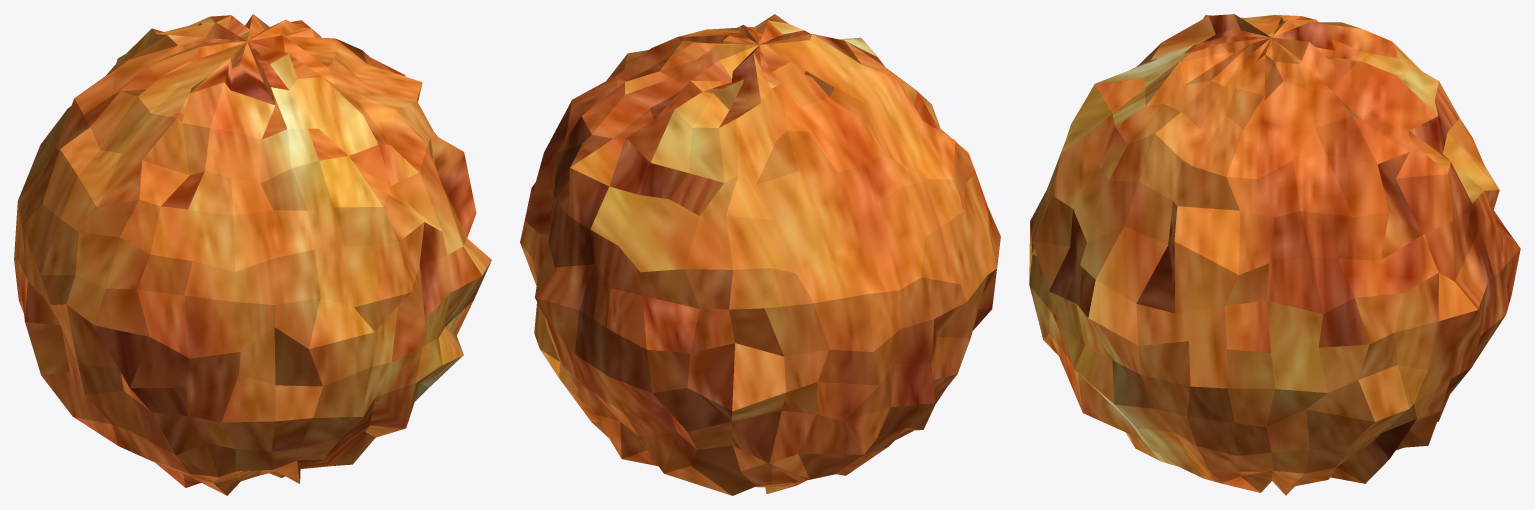
Rendered from BolaFogo.fbx.
The picture shows the model from 3 angles, left to right: view 1: azimuth 30°, elevation 25°; view 2: azimuth 150°, elevation 25°; view 3: azimuth 270°, elevation 25°; orthographic projection. The views are drawn at different scales.
Parts seen in each view (by area): view 1: Sphere; view 2: Sphere; view 3: Sphere.
Boxes of the visible parts, <box> form: Sphere: <box>14,14,491,495</box>; Sphere: <box>520,14,1000,495</box>; Sphere: <box>1029,14,1520,495</box>.
Size of the model in its own units: 1150 by 1189 by 1183.
